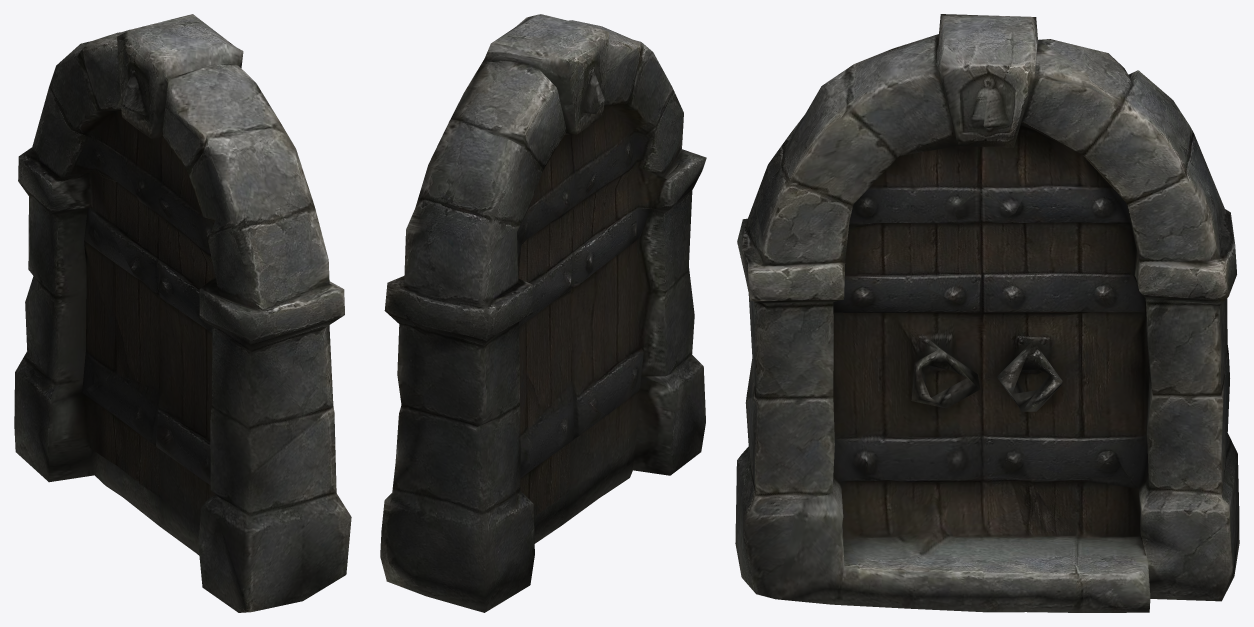
File: cryptdoor.glb
The picture shows the model from 3 angles, left to right: view 1: azimuth 30°, elevation 25°; view 2: azimuth 150°, elevation 25°; view 3: azimuth 270°, elevation 25°; orthographic projection. The views are drawn at different scales.
Visible parts, largest first — view 1: tripo_node_f9baf5fa-12d1-40d0-a81d-f299f6e1ba62; view 2: tripo_node_f9baf5fa-12d1-40d0-a81d-f299f6e1ba62; view 3: tripo_node_f9baf5fa-12d1-40d0-a81d-f299f6e1ba62.
Part boxes in pixels (box(x1,y1,x2,y2)): tripo_node_f9baf5fa-12d1-40d0-a81d-f299f6e1ba62: box(14, 14, 351, 612); tripo_node_f9baf5fa-12d1-40d0-a81d-f299f6e1ba62: box(380, 14, 706, 612); tripo_node_f9baf5fa-12d1-40d0-a81d-f299f6e1ba62: box(735, 14, 1239, 612).
Bounding box in the file's own units: 0.2947 × 1 × 0.8375.
1 material, 1 textured.
